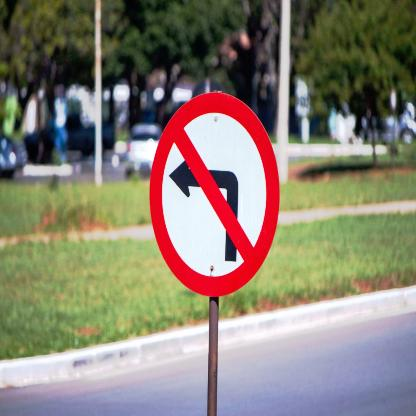No left turn: (150, 87, 272, 293)
